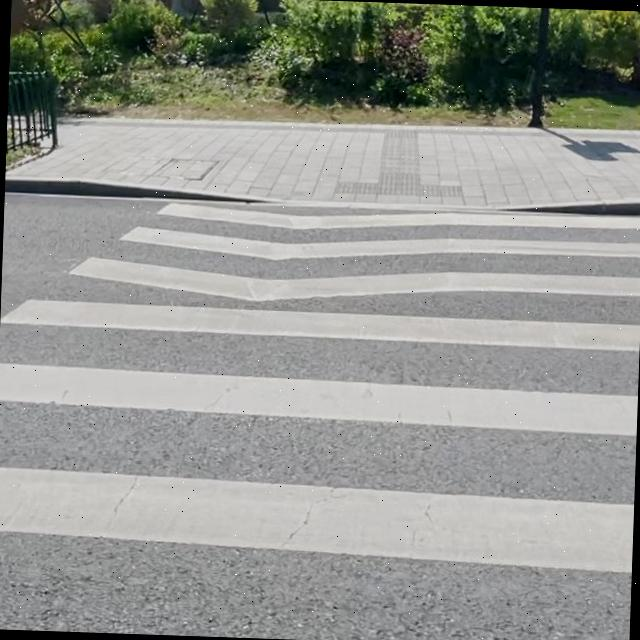curb: (6, 177, 276, 201), (499, 201, 640, 217)
